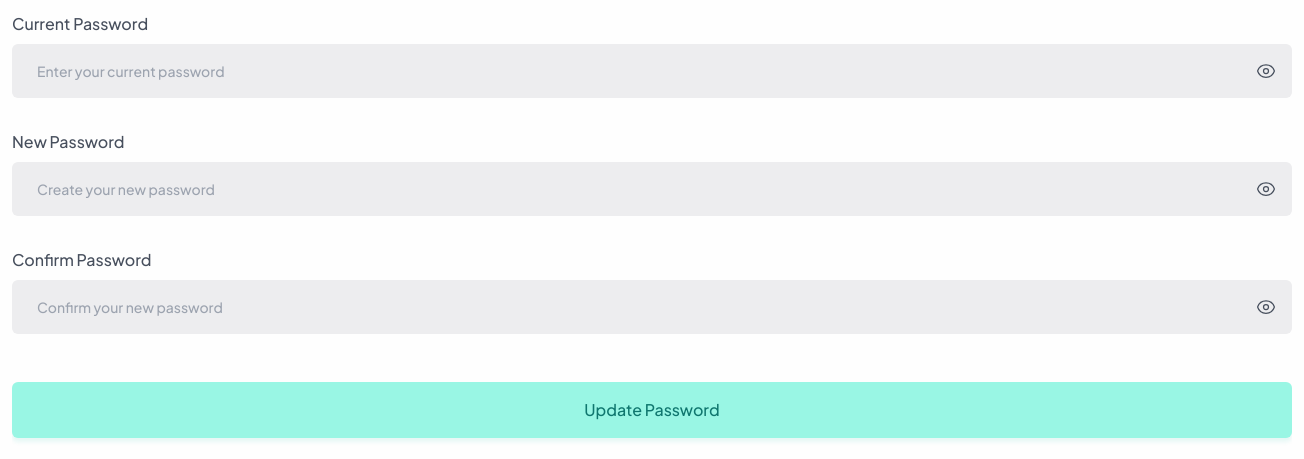
Scenario: Functionality › should render correct when new password is too weak
This screenshot has width=1304, height=459.
Step 1. Click the button "Update Password" → {"x": 652, "y": 410}, box [12, 382, 1292, 438]
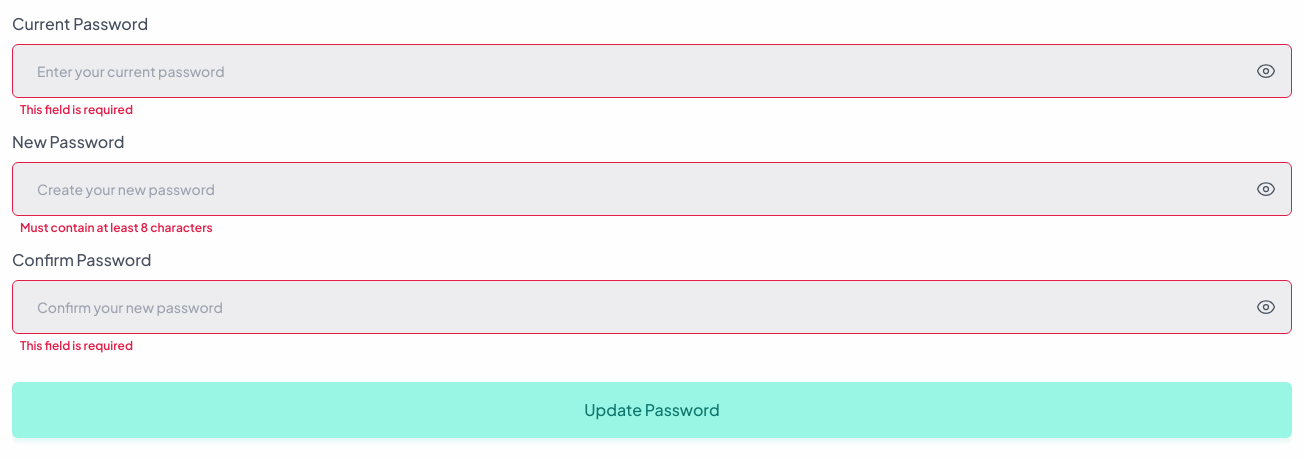
Expected: the text "Must contain at least 8 characters" is shown, [20, 220, 213, 236]
